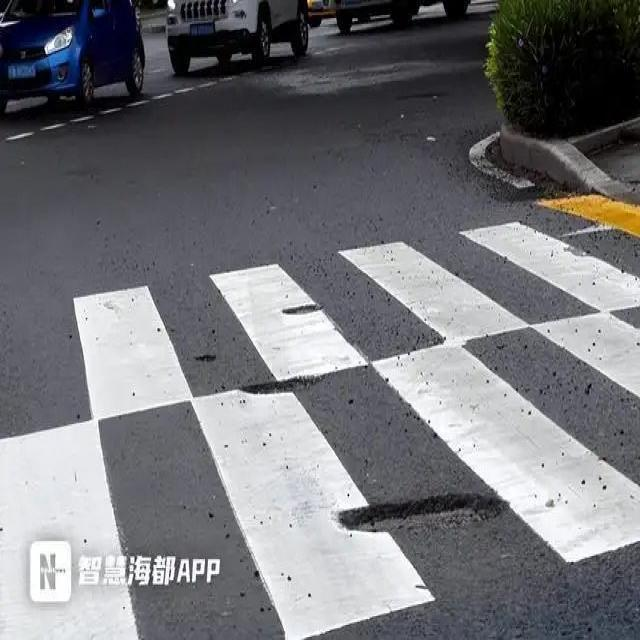Buraco: (334, 489, 512, 535), (234, 373, 332, 396), (390, 91, 447, 105), (280, 302, 327, 318)
